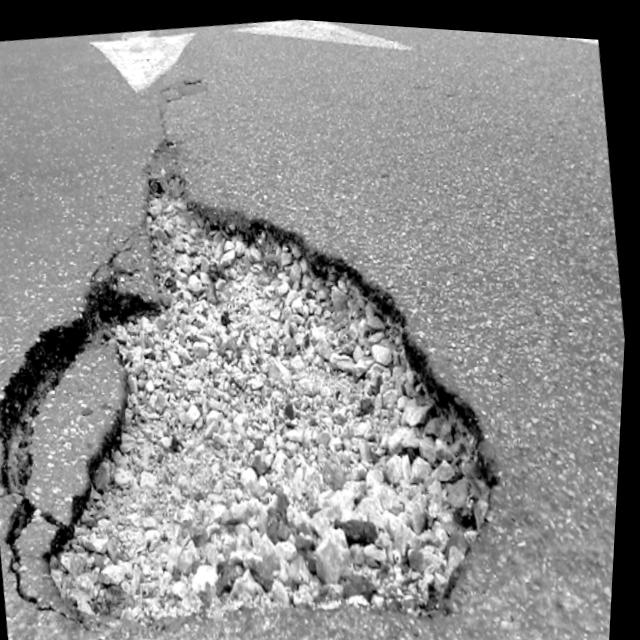pathole: (0, 41, 525, 640)
